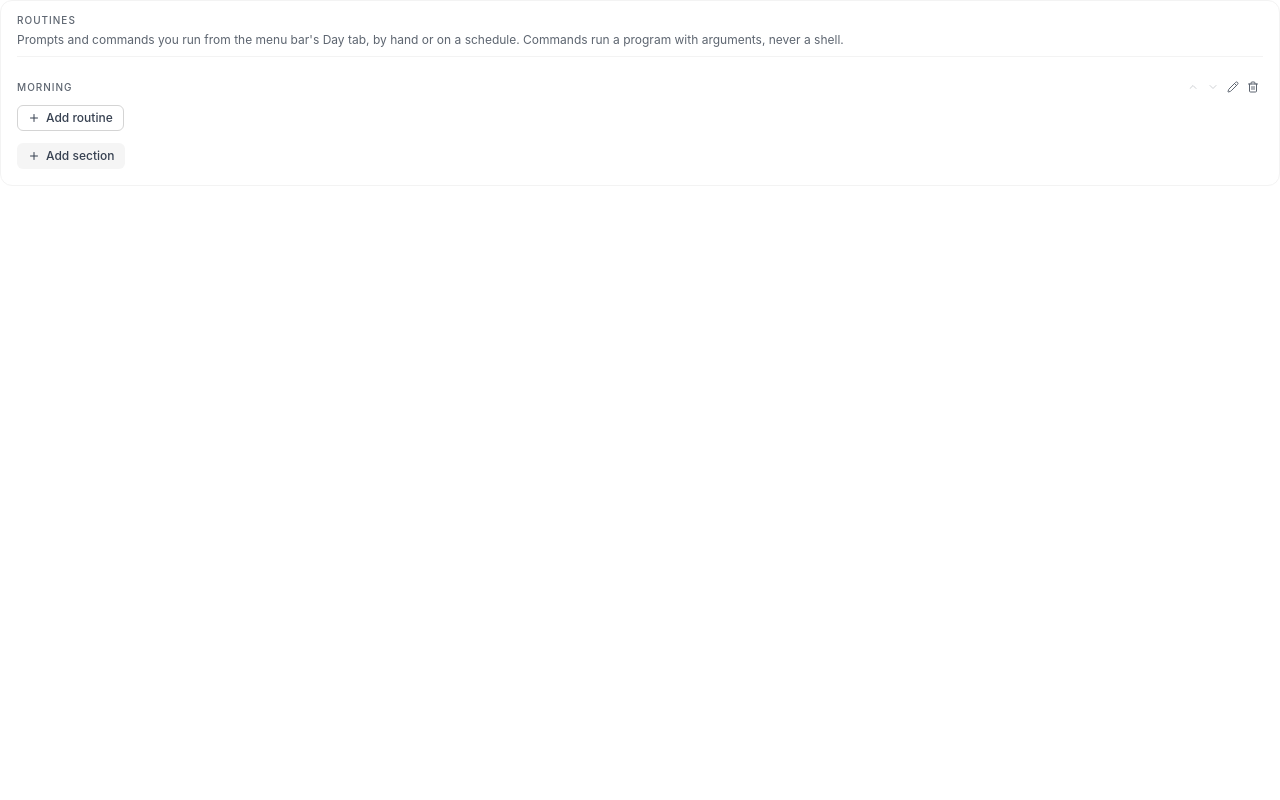
Test: RoutinesCard › refuses an empty program without saving
Step 1. Click the button "Add routine" → (70, 118), box 17,105 -> 124,131
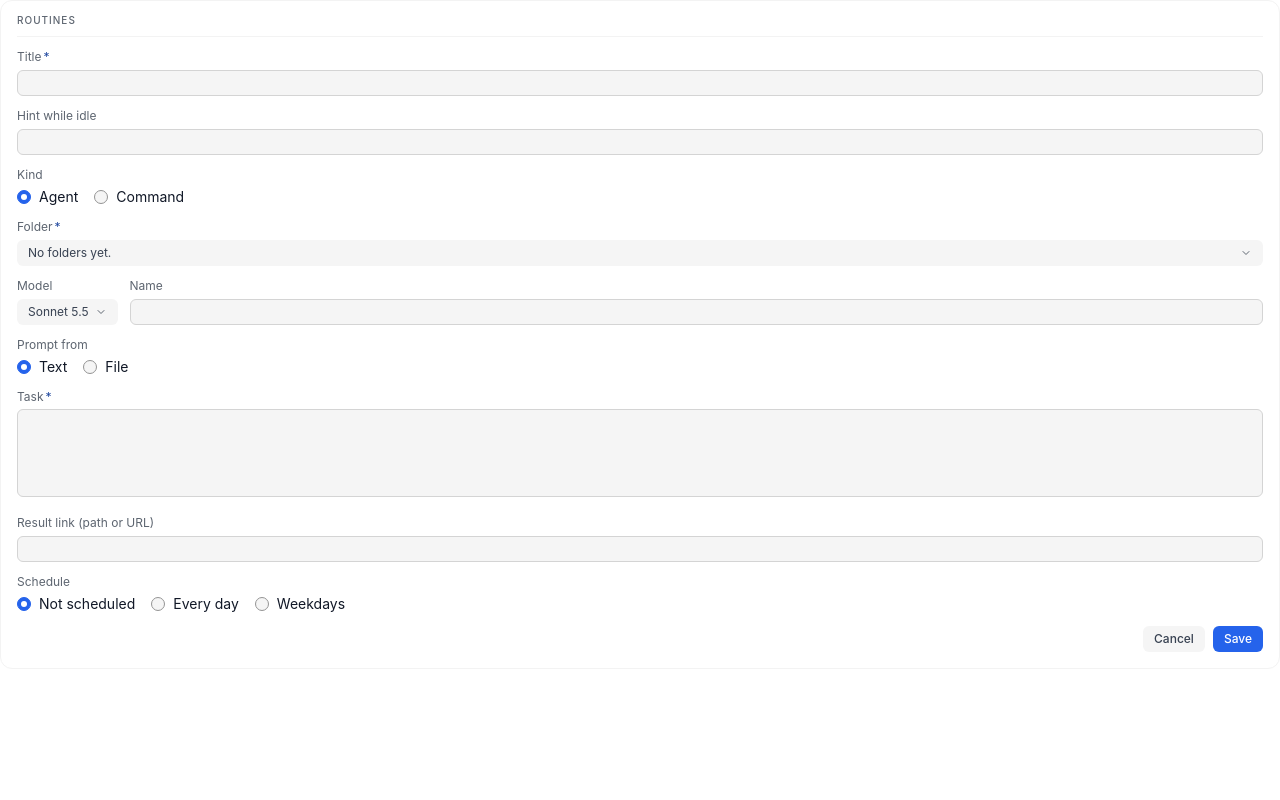
Step 2. Type "Backup" into the field labelled "Title*" → (640, 83), box 17,70 -> 1263,96
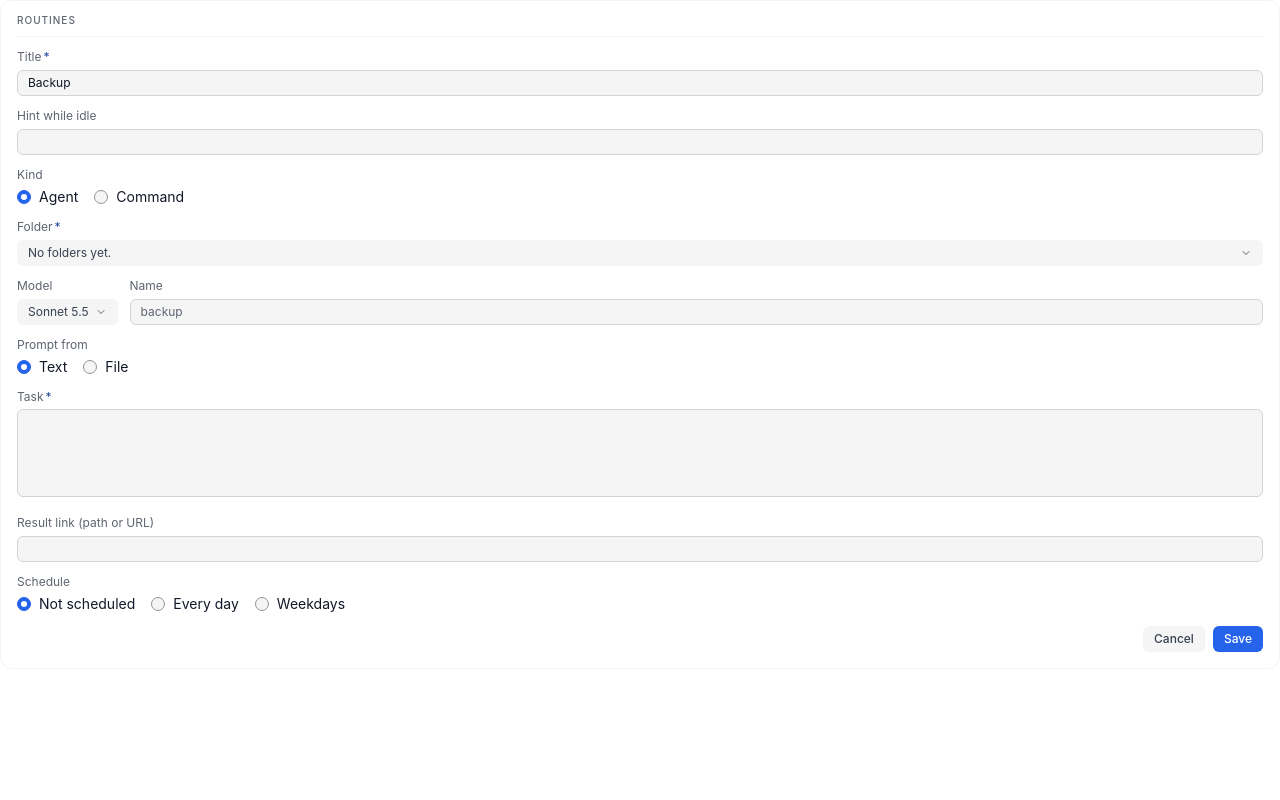
Step 3. Click the radio button labelled "Command" → (101, 197), box 94,190 -> 108,204
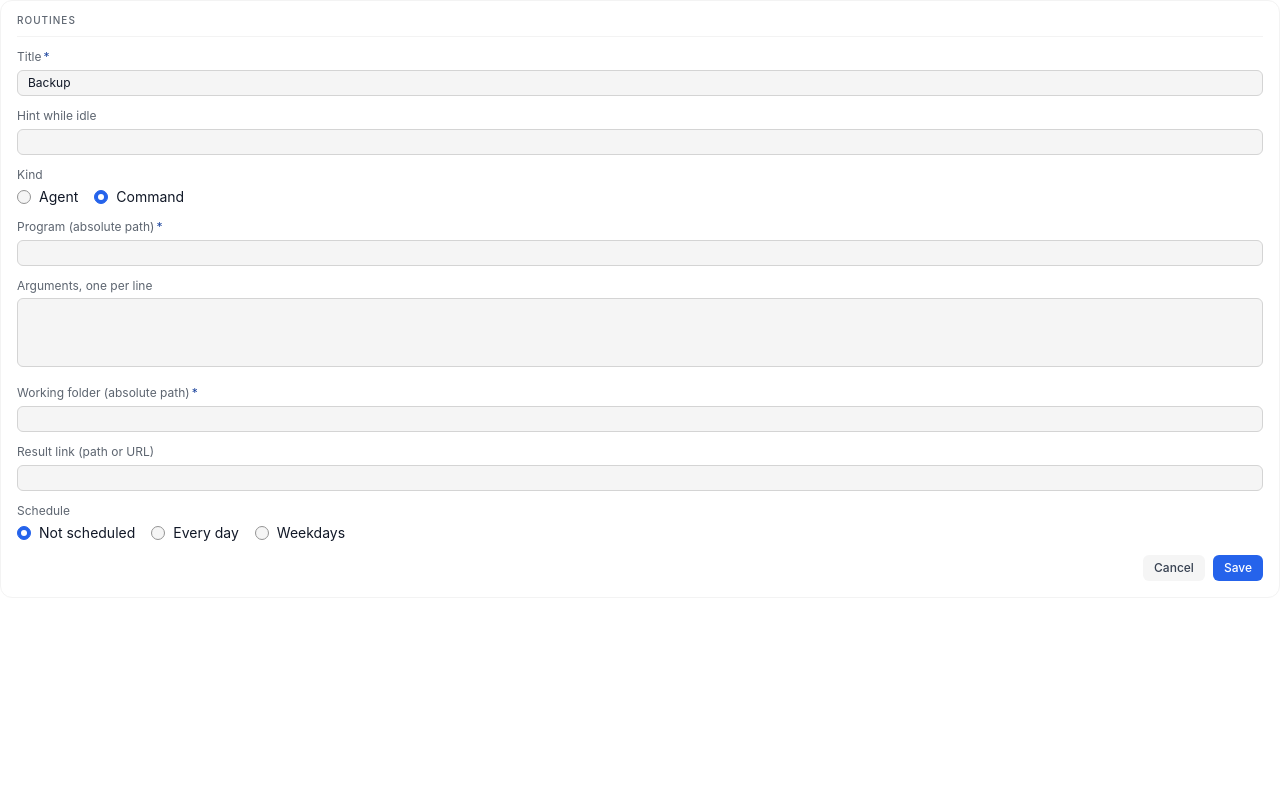
Step 4. Type "/tmp" into the field labelled "Working folder (absolute path)*" → (640, 418), box 17,406 -> 1263,432
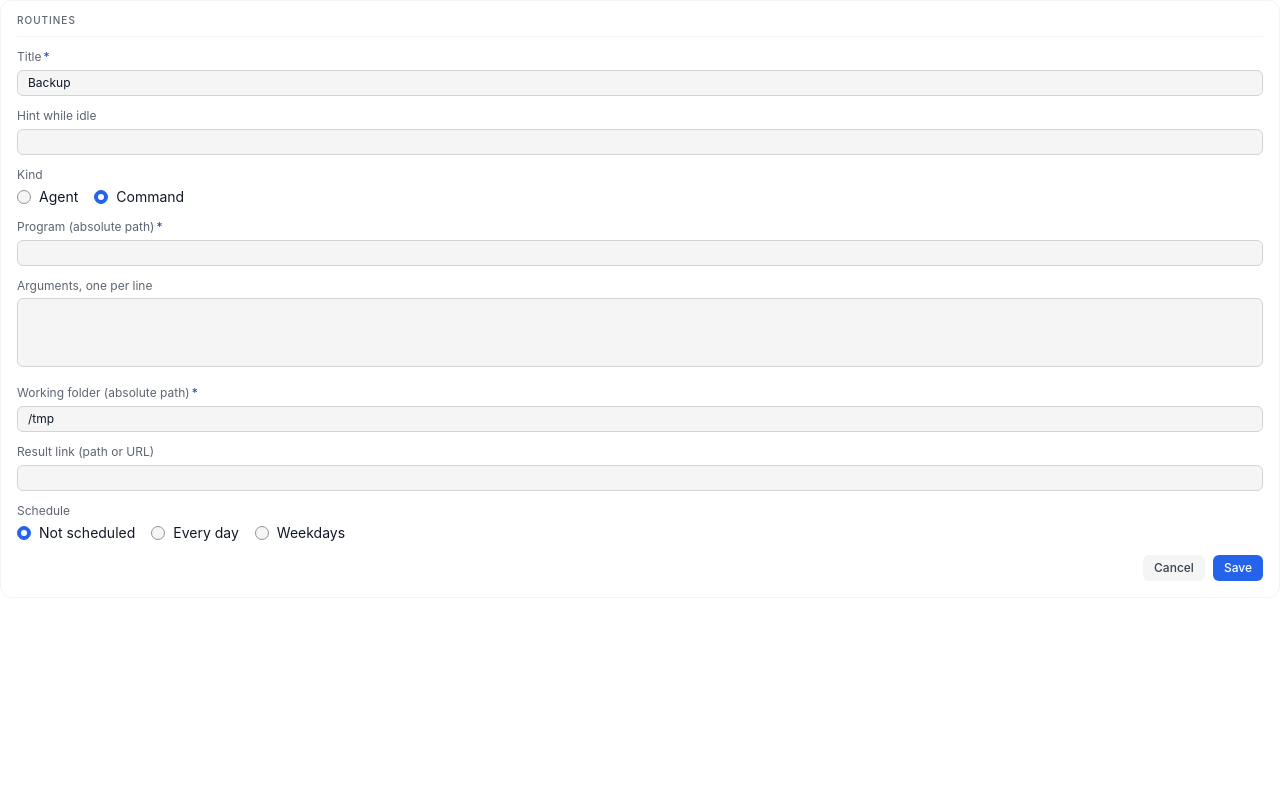
Step 5. Click the button "Save" → (1238, 568), box 1213,554 -> 1263,580
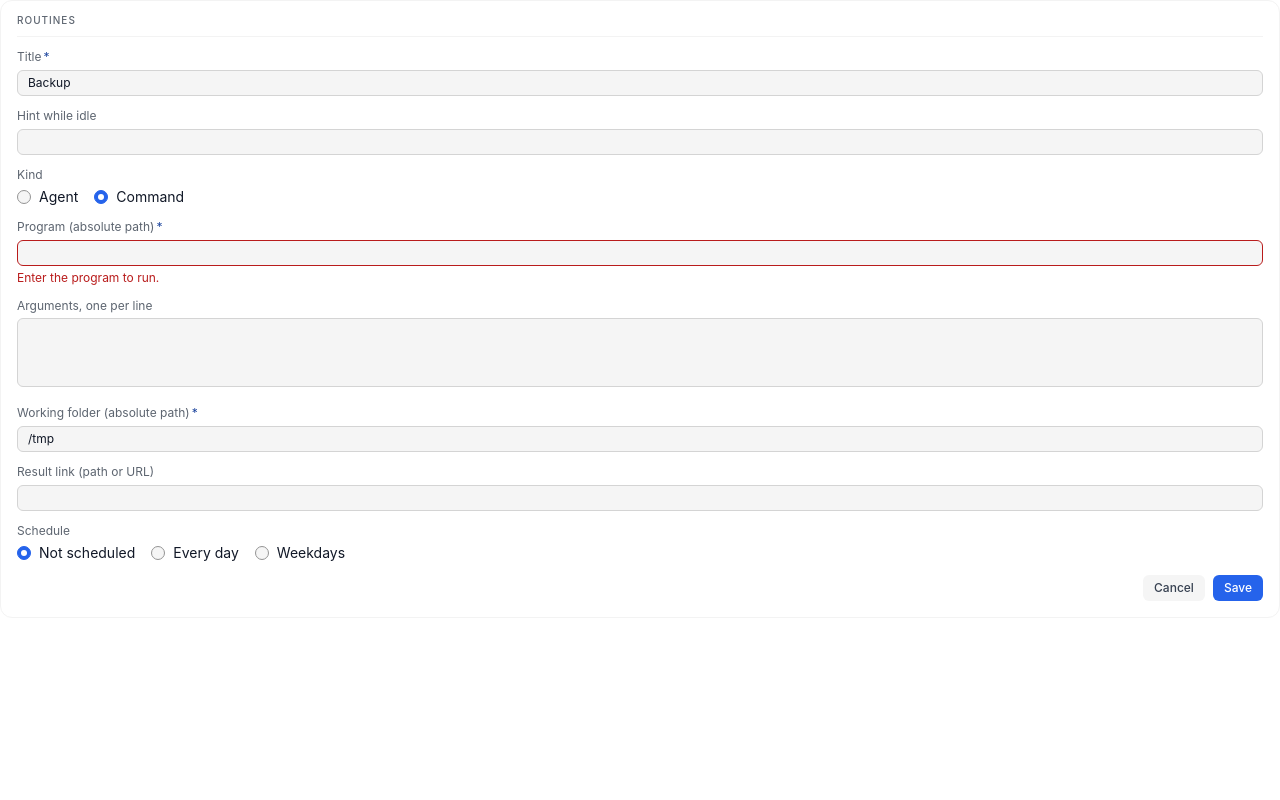
Now the text "Enter the program to run." is shown, box 17,270 -> 159,285
